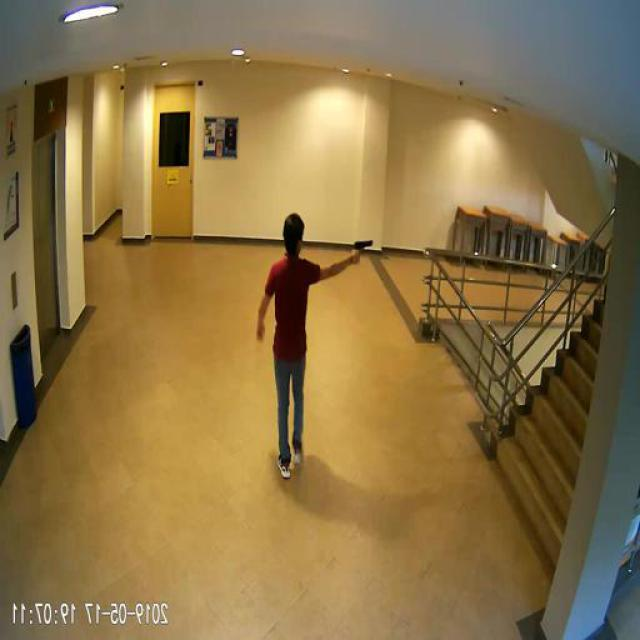Gun: (355, 238, 375, 260)
